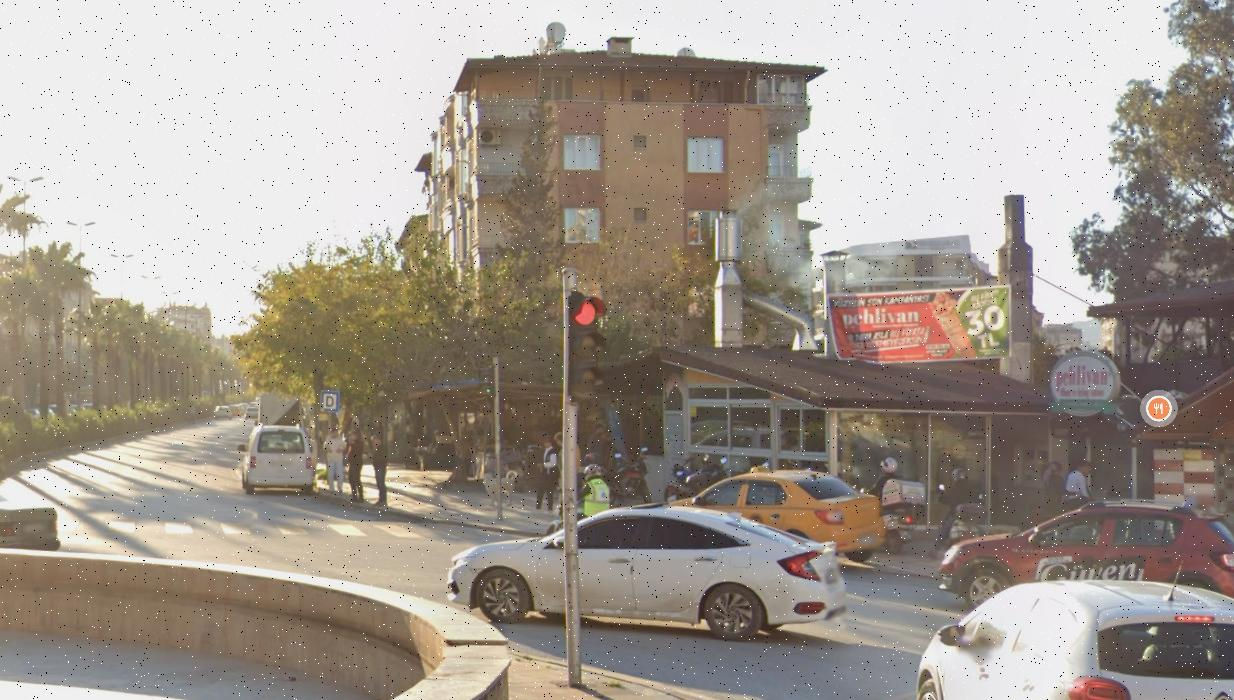redlight: (563, 288, 603, 402)
